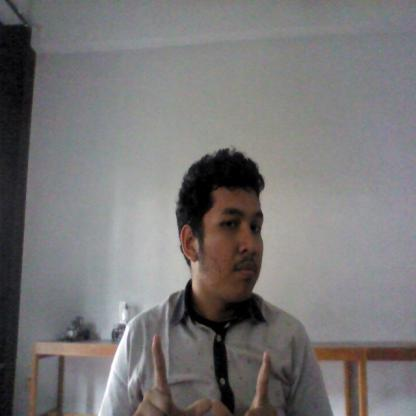W: (130, 331, 281, 416)
